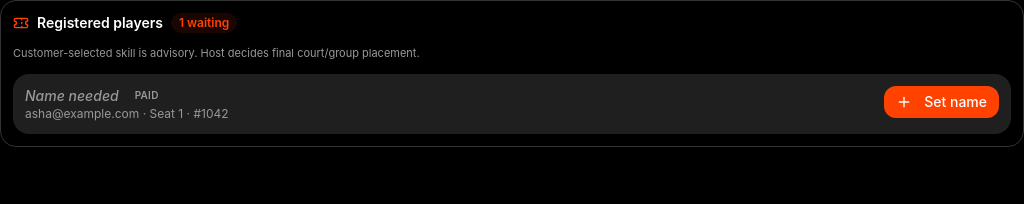
it: RegistrationPool (admin Players card) › requires a typed roster name when none can be resolved
Later steps or results of the test are not shown.
Click the button with aria-label "Set roster name and add" at (942, 102), box [884,86,999,118]
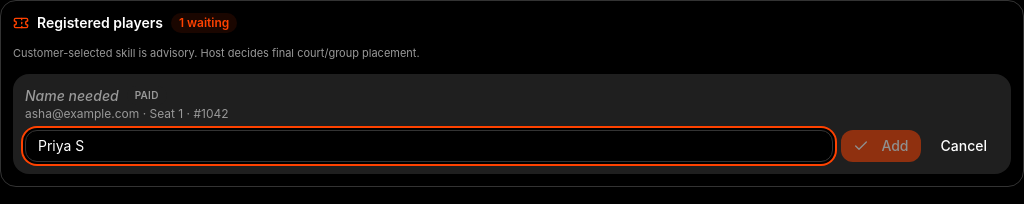
Expected: the field named "Roster name" is shown, [25,130,833,162]
